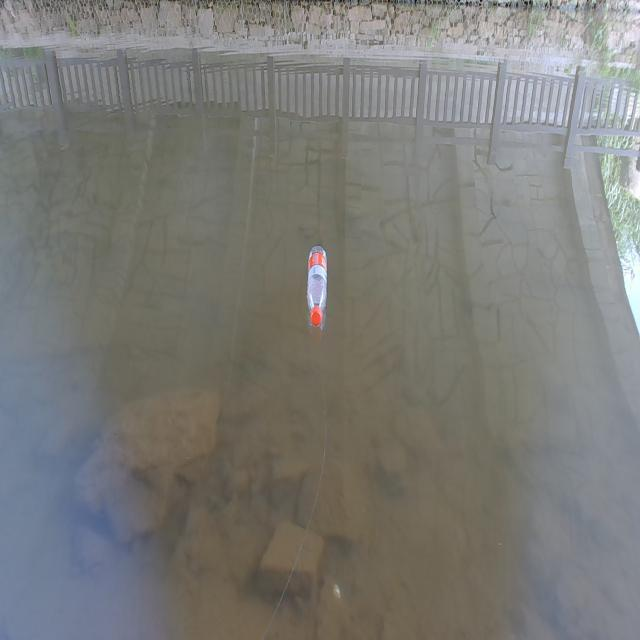garbage: (306, 244, 328, 330)
